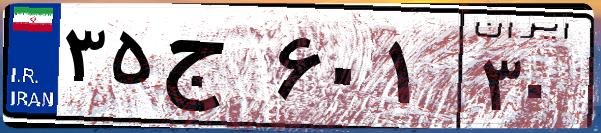0: (330, 28, 385, 110), (525, 38, 570, 115)
1: (385, 28, 445, 110)
3: (57, 26, 110, 100), (475, 38, 525, 113)
5: (110, 28, 158, 98)
6: (270, 28, 330, 110)
ج: (158, 20, 270, 120)
